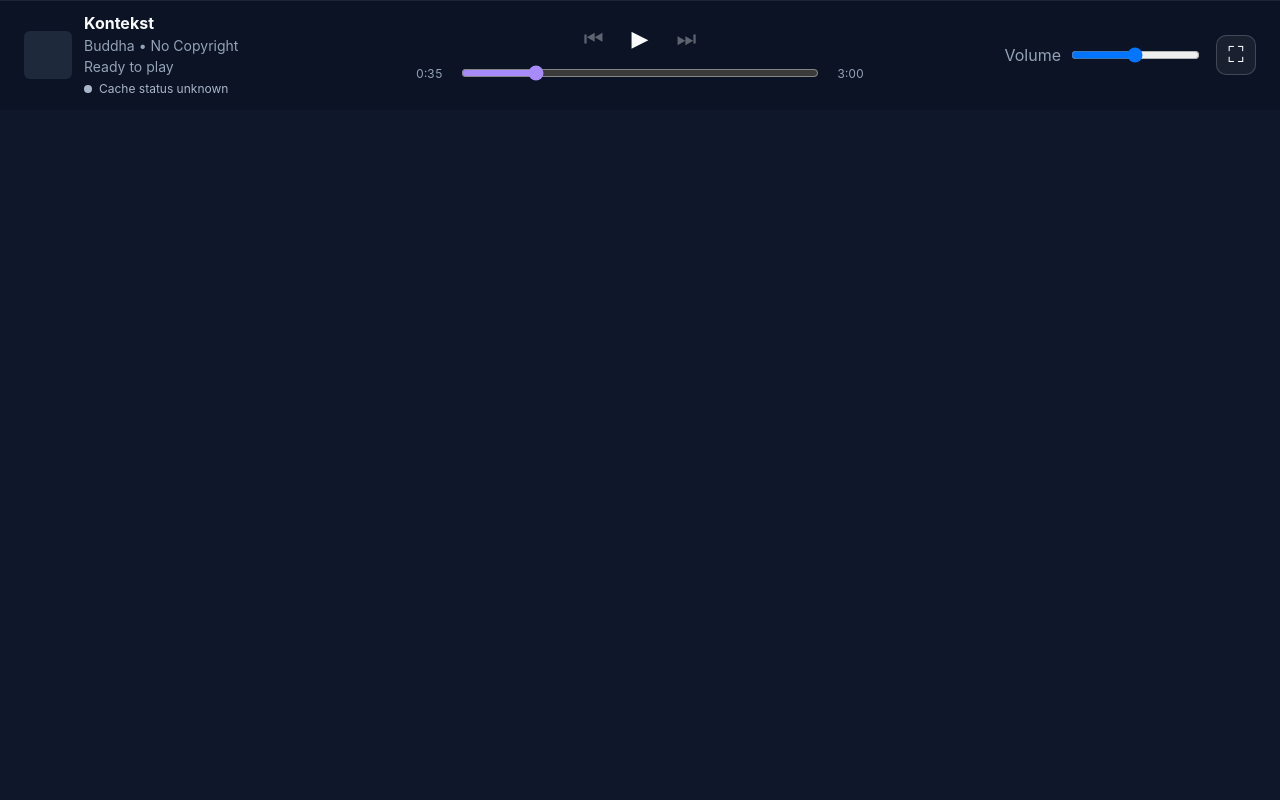
Test: MC-T51: fullscreen player › closes with Escape and restores the compact player
expect the text "Kontekst" is shown: met, box [84,13,154,33]
Click the button named "Expand player" at (1236, 55), box [1216,35,1256,75]
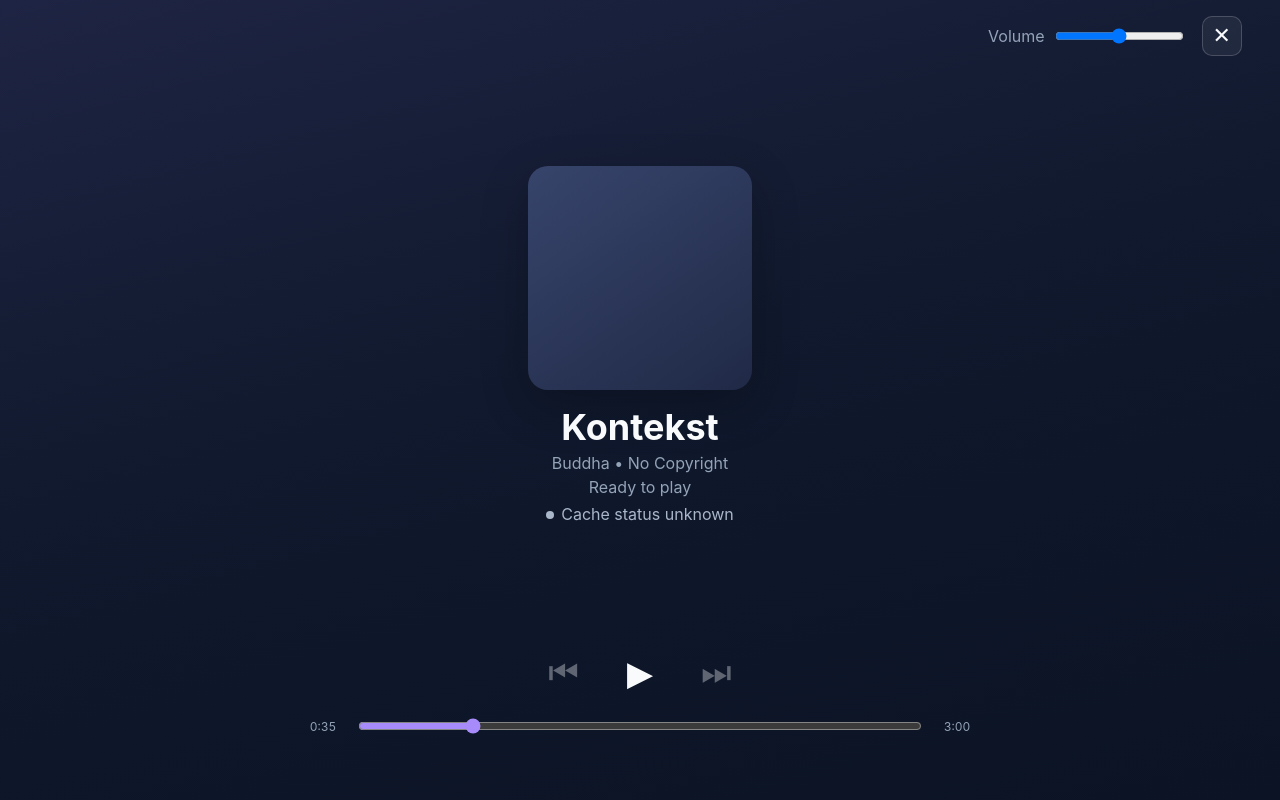
expect the dialog is shown: met
Press Escape
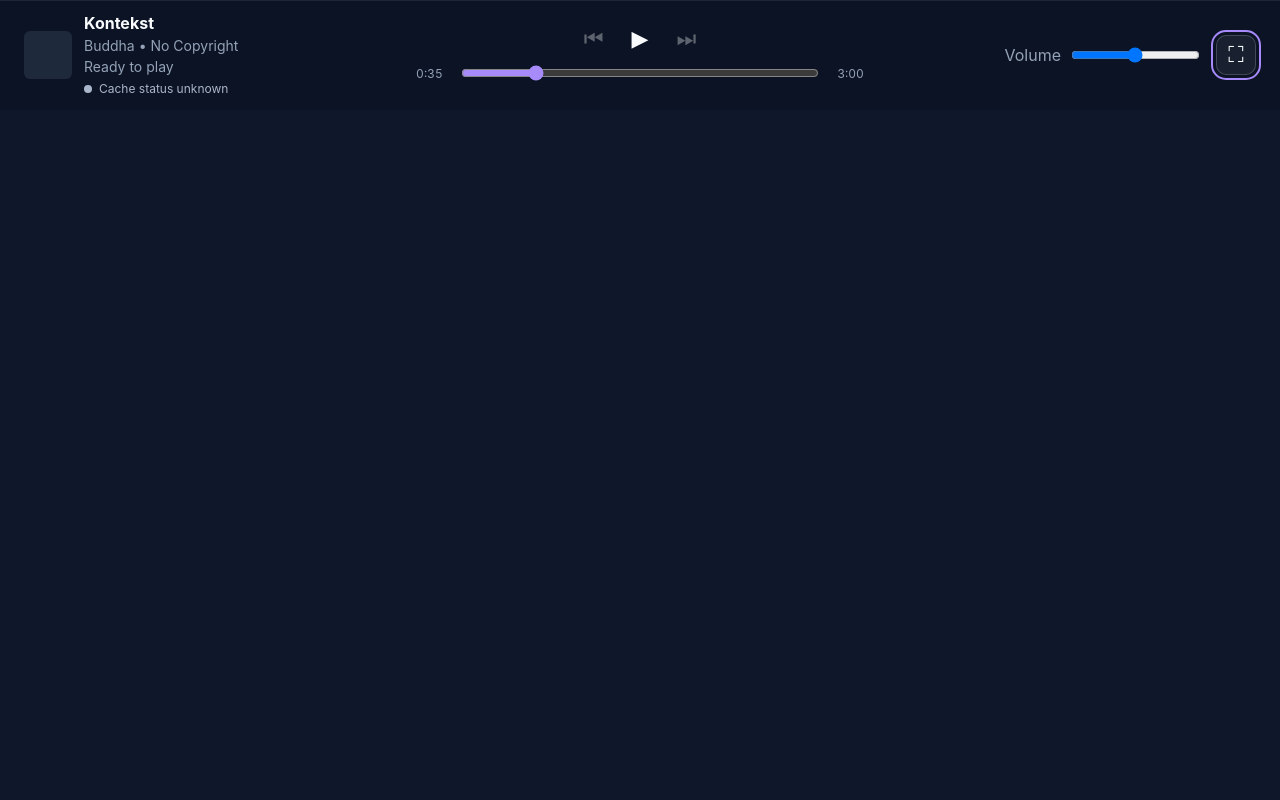
expect the button named "Expand player" is shown: met, box [1216,35,1256,75]
